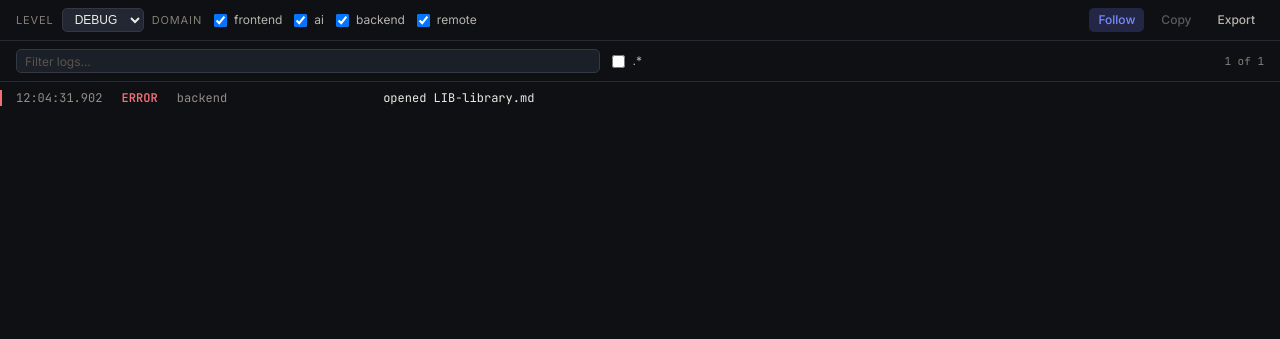
Test: the record list (LOG-FR-02 / LOG-FR-03 / LOG-FR-02) › renders a path in exactly the case it carries on disk (LOG-FR-22 / SNV-FR-57)
The width and height of the screenshot is (1280, 339).
Expected: the text with class "logs__msg" shows "LIB-library.md", x1=383 y1=90 x2=534 y2=106
Step 1. Click the button with class "logs__line" → click(59, 98), box x1=0 y1=90 x2=1279 y2=106
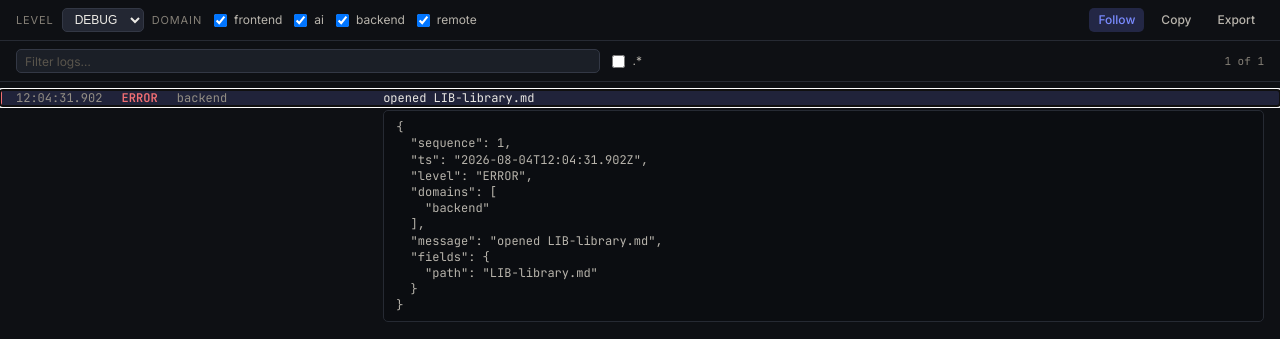
Expected: the element with test id "logs-json" does not show "LIB-LIBRARY.MD"
Now the text with test id "logs-json" shows "LIB-library.md", box x1=396 y1=119 x2=663 y2=313
